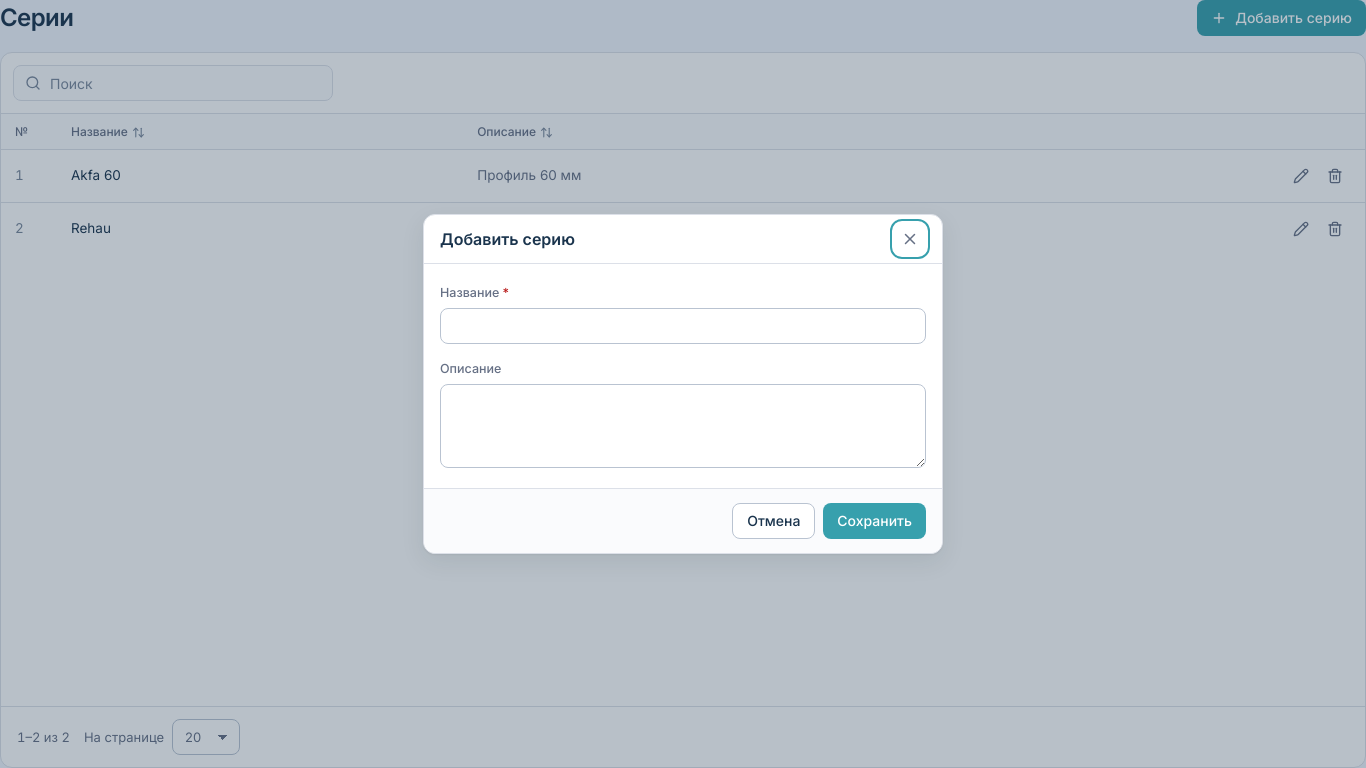
Test case: series › requires a name
Step 1. Click the button "Сохранить" → (875, 521), box [823,503,926,539]
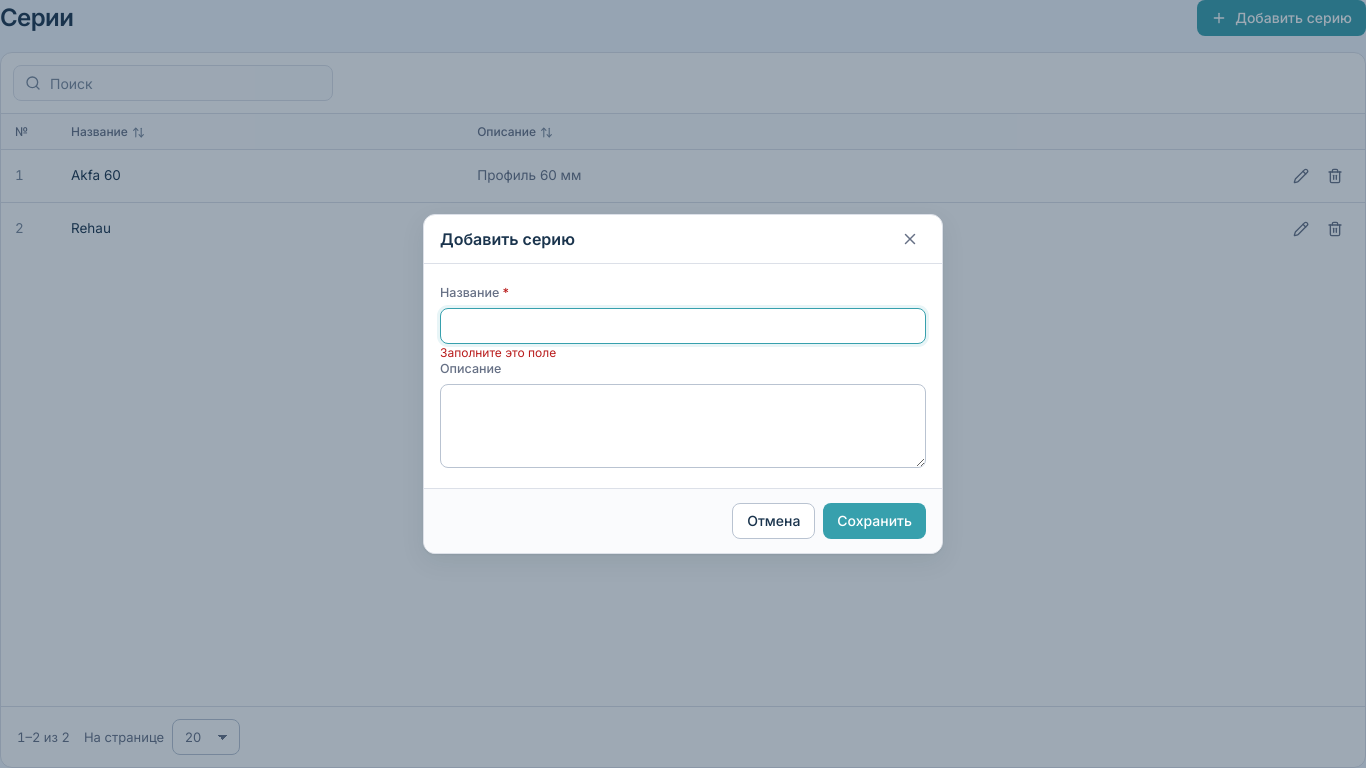
Expected: the text "Заполните это поле" is shown once, [440,346,556,360]
